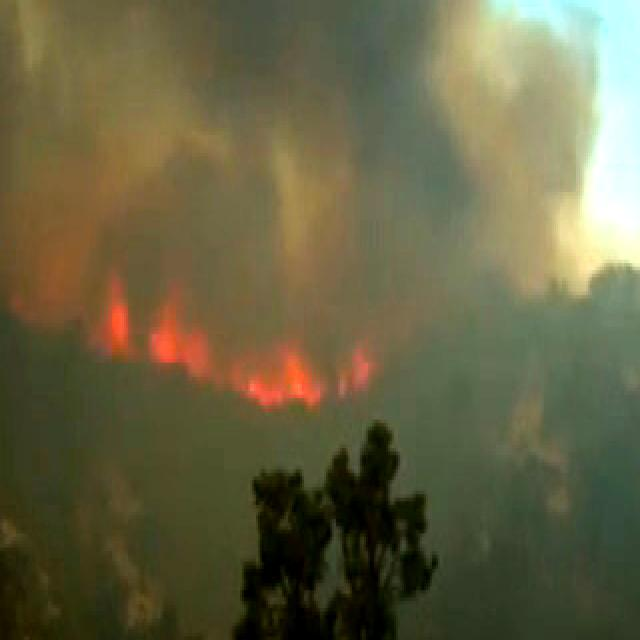fire: (148, 310, 394, 402)
